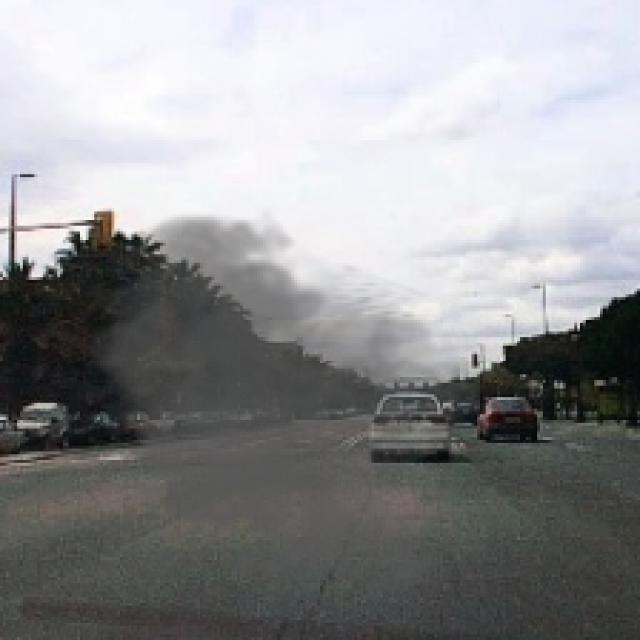Smoke: (68, 206, 480, 608)
